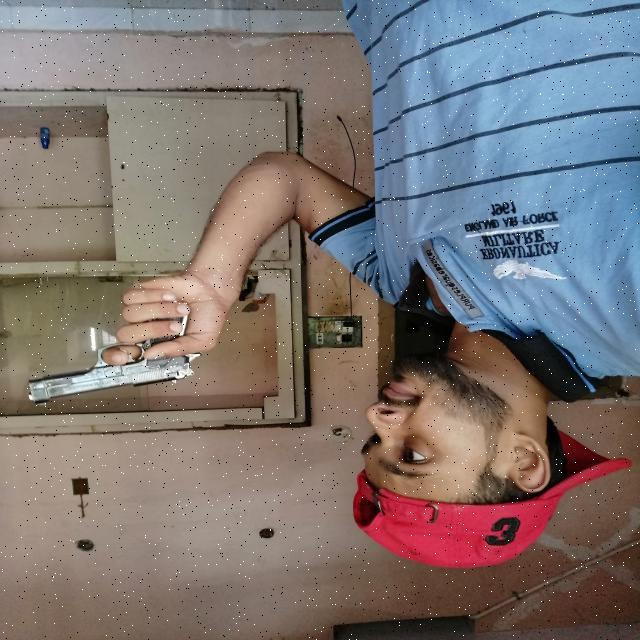gun: (11, 292, 210, 410)
